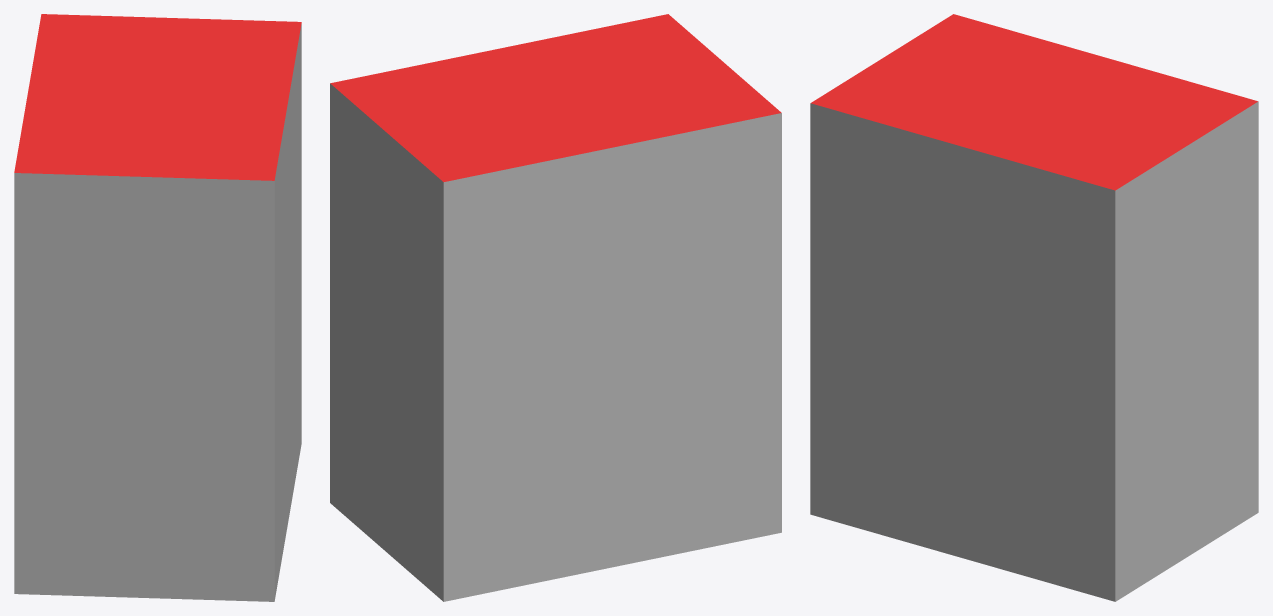
File: ID_07a00b19-42ff-4966-a0f4-05017bfc4b40.dae
3 renders of one model, left to right at view 1: azimuth 30°, elevation 25°; view 2: azimuth 150°, elevation 25°; view 3: azimuth 270°, elevation 25°, orthographic. The views are drawn at different scales.
Size of the model in its own units: 14.74 by 15.81 by 16.02.
